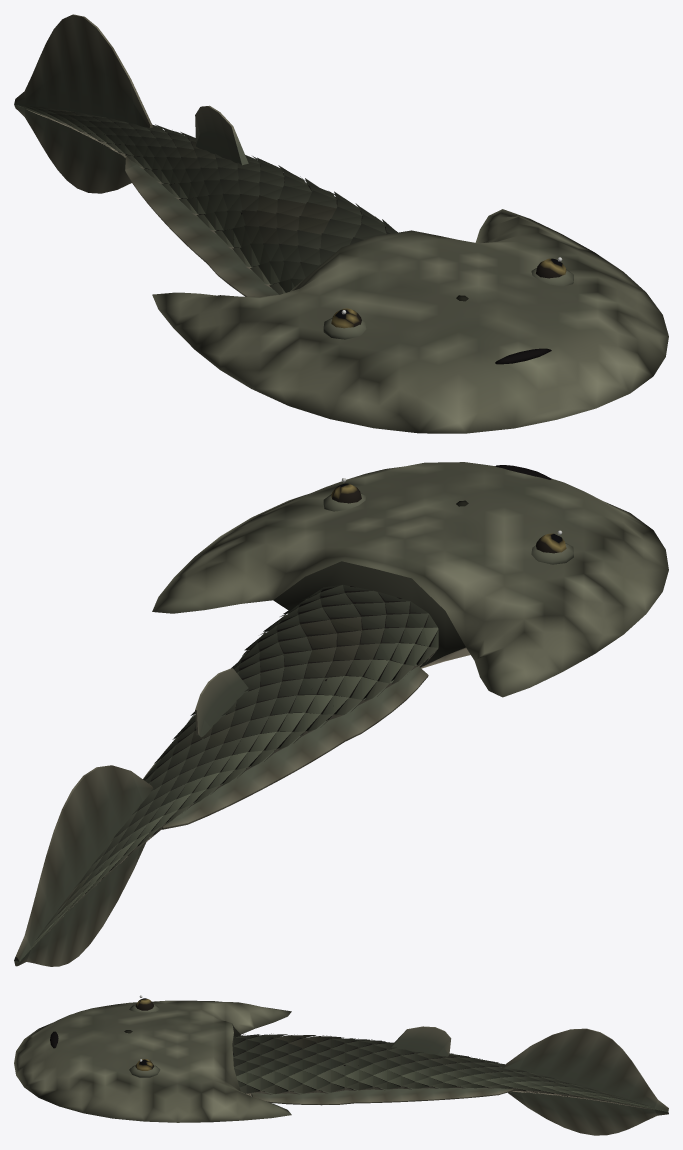
Rendered from ShuyuZhejiangensis.fbx.
3 views of the same model, one above another, from view 1: azimuth 30°, elevation 25°; view 2: azimuth 150°, elevation 25°; view 3: azimuth 270°, elevation 25° (orthographic). The views are drawn at different scales.
Parts seen in each view (by area): view 1: ShuyuZhejiangensis; view 2: ShuyuZhejiangensis; view 3: ShuyuZhejiangensis.
Boxes of the visible parts, <box> form: ShuyuZhejiangensis: <box>14,14,668,433</box>; ShuyuZhejiangensis: <box>14,462,668,966</box>; ShuyuZhejiangensis: <box>14,995,668,1135</box>.
Bounding box in the file's own units: 0.69 × 0.2932 × 1.6.
